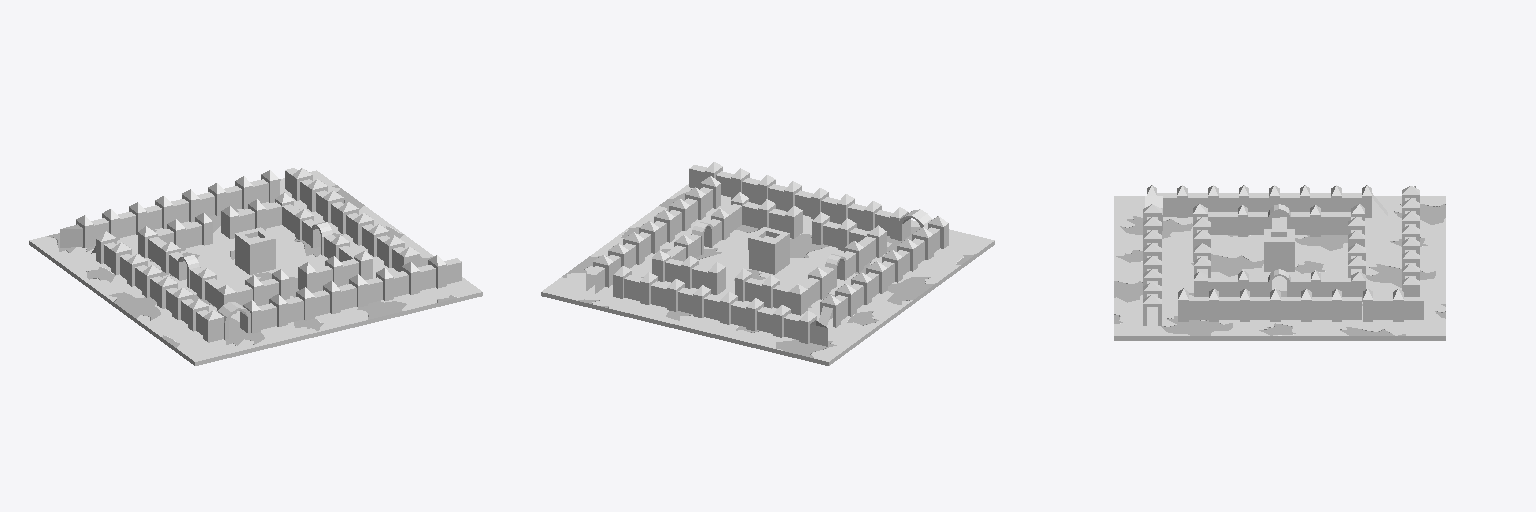
3 views of the same model, side by side, from view 1: azimuth 30°, elevation 25°; view 2: azimuth 150°, elevation 25°; view 3: azimuth 270°, elevation 25° (orthographic).
Parts seen in each view (by area): view 1: cube31, Castle, Wallpiece18, Wallpiece29, Wallpiece20, Wallpiece19, Wallpiece25, Wallpiece17, Wallpiece16, Wallpiece15, Wallpiece23, Wallpiece26 (+8 smaller); view 2: cube31, Castle, Wallpiece17, Wallpiece25, Wallpiece16, Wallpiece15, Wallpiece19, Wallpiece18, Wallpiece20, Wallpiece30, Wallpiece24, Wallpiece29 (+8 smaller); view 3: cube31, Castle, Wallpiece28, Wallpiece26, Wallpiece27, Wallpiece30, Wallpiece21, Wallpiece22, Wallpiece23, Wallpiece24, Wallpiece29, Wallpiece17 (+1 smaller).
Part boxes in pixels (x1,y1,x2,y2): cube31: (29, 170, 482, 365); Castle: (138, 192, 372, 313); Wallpiece18: (296, 281, 356, 320); Wallpiece29: (402, 255, 461, 294); Wallpiece20: (243, 294, 303, 333); Wallpiece19: (349, 268, 408, 307); Wallpiece25: (60, 209, 119, 247); Wallpiece17: (224, 170, 279, 209); Wallpiece16: (118, 196, 172, 237); Wallpiece15: (171, 183, 225, 222); Wallpiece23: (181, 299, 223, 342); Wallpiece26: (346, 213, 389, 256); cube31: (541, 184, 994, 365); Castle: (652, 192, 886, 315); Wallpiece17: (613, 266, 668, 307); Wallpiece25: (773, 305, 827, 346); Wallpiece16: (720, 292, 775, 333); Wallpiece15: (667, 279, 722, 320); Wallpiece19: (742, 175, 801, 211); Wallpiece18: (795, 188, 854, 224); Wallpiece20: (848, 201, 908, 239); Wallpiece30: (586, 243, 628, 293); Wallpiece24: (818, 284, 856, 328); Wallpiece29: (689, 162, 749, 199); cube31: (1114, 196, 1445, 340); Castle: (1193, 204, 1365, 301); Wallpiece28: (1178, 288, 1239, 321); Wallpiece26: (1240, 288, 1300, 321); Wallpiece27: (1301, 289, 1361, 321); Wallpiece30: (1363, 289, 1423, 321); Wallpiece21: (1208, 185, 1268, 211); Wallpiece22: (1269, 185, 1330, 217); Wallpiece23: (1147, 185, 1207, 217); Wallpiece24: (1331, 185, 1387, 217); Wallpiece29: (1143, 282, 1161, 333); Wallpiece17: (1402, 263, 1419, 296).
Size of the model in its own units: 2063 by 280 by 2064.
2 materials, 2 textured.